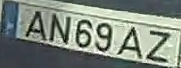6: (74, 19, 93, 48)
9: (93, 21, 113, 52)
A: (113, 25, 143, 59), (23, 10, 47, 42)
N: (47, 12, 71, 46)
Z: (144, 29, 171, 64)
